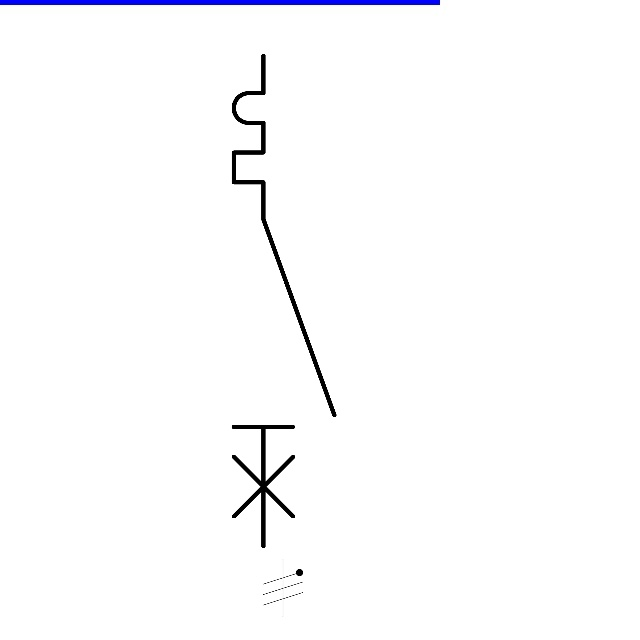interruptor_termomagnetico: (221, 43, 347, 559)
